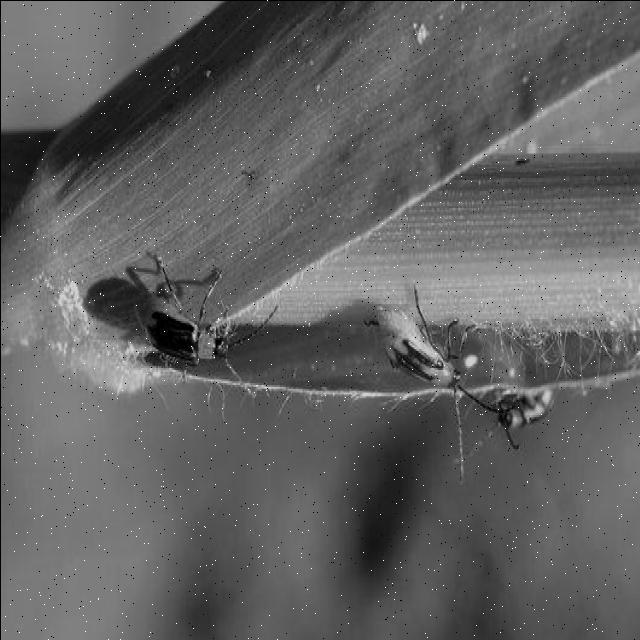trips: (362, 288, 505, 484), (134, 256, 276, 402), (496, 384, 554, 450)
